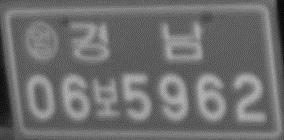0: (26, 73, 56, 122)
2: (232, 71, 268, 124)
5: (120, 71, 153, 122)
6: (195, 72, 228, 122), (60, 71, 91, 122)
9: (157, 71, 190, 122)
경남_D: (67, 19, 206, 63)
보: (90, 77, 121, 119)
영: (24, 20, 60, 62)
